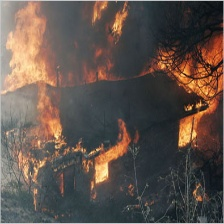fire: (13, 98, 134, 201), (156, 24, 224, 151), (4, 3, 53, 94), (90, 1, 130, 38), (70, 63, 119, 86)
